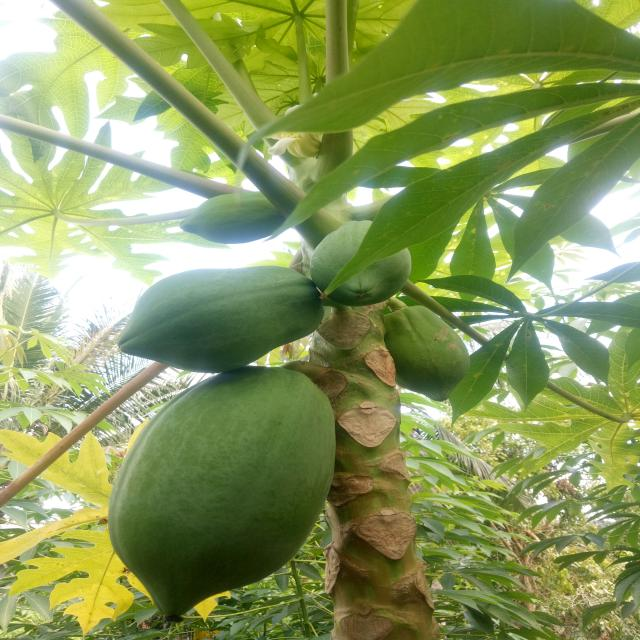Pepaya unrippen: (110, 370, 344, 631), (116, 264, 324, 376), (302, 204, 419, 316), (390, 304, 460, 411)
